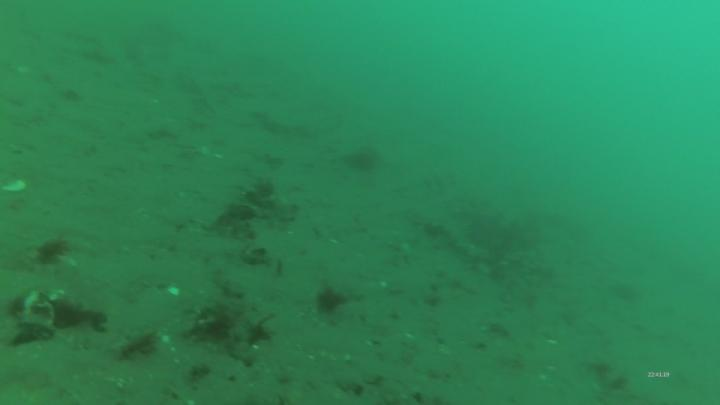echinus: (33, 234, 70, 266), (316, 284, 351, 314), (608, 281, 640, 304), (350, 150, 377, 176)
holothurian: (224, 304, 278, 369)
